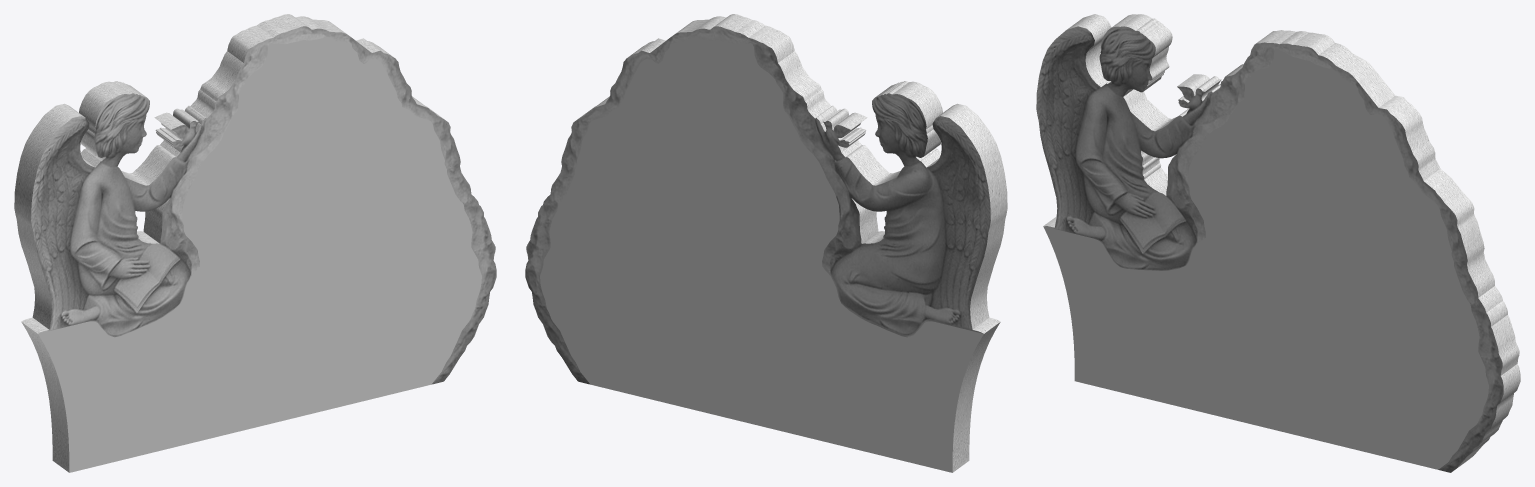
The model's file is cn85e9868019_tkf.glb.
3 renders of one model, left to right at view 1: azimuth 30°, elevation 25°; view 2: azimuth 150°, elevation 25°; view 3: azimuth 330°, elevation 25°, orthographic.
Visible parts, largest first — view 1: Pam-d02-123, Pam-d02-123_2_notexture; view 2: Pam-d02-123, Pam-d02-123_2_notexture; view 3: Pam-d02-123, Pam-d02-123_2_notexture.
Boxes of the visible parts, box(x1,y1,x2,y2) form: Pam-d02-123: box(38, 36, 481, 472); Pam-d02-123_2_notexture: box(14, 14, 496, 472); Pam-d02-123: box(540, 36, 983, 472); Pam-d02-123_2_notexture: box(525, 14, 1007, 472); Pam-d02-123: box(1043, 48, 1488, 469); Pam-d02-123_2_notexture: box(1036, 14, 1520, 472).
Size of the model in its own units: 0.8 by 0.64 by 0.05.
Materials: 1 (1 with a texture image).
